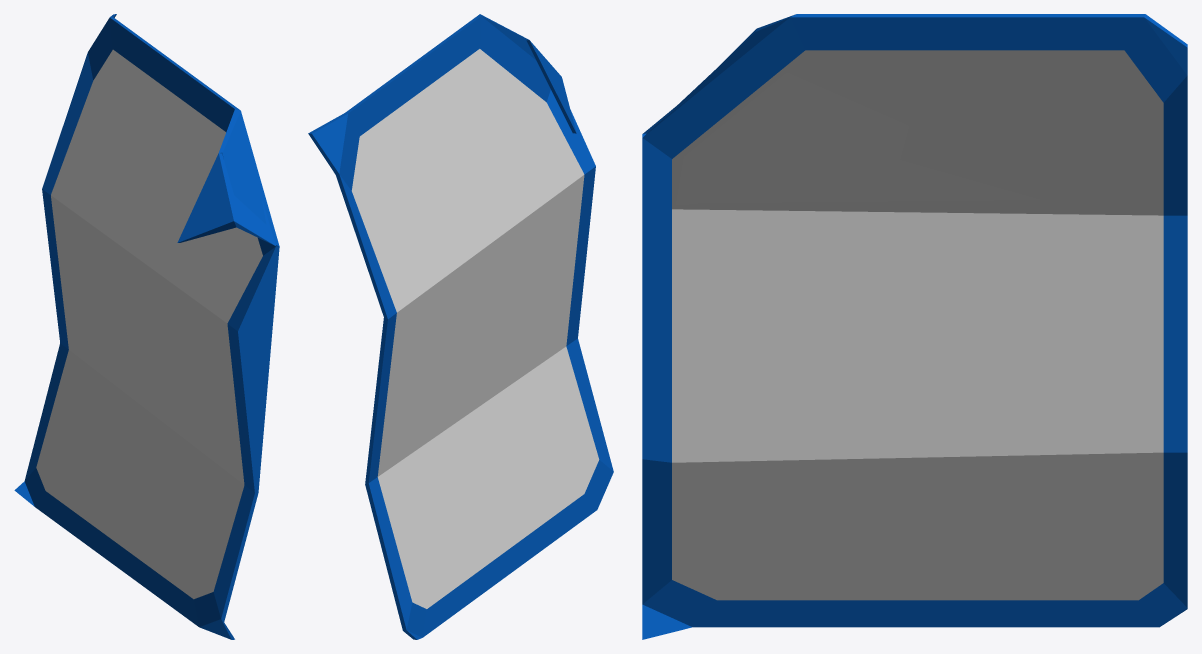
Rendered from Paper_Trash.fbx.
3 views of the same model, side by side, from view 1: azimuth 30°, elevation 25°; view 2: azimuth 150°, elevation 25°; view 3: azimuth 270°, elevation 25° (orthographic). The views are drawn at different scales.
Parts seen in each view (by area): view 1: Paper; view 2: Paper; view 3: Paper.
Boxes of the visible parts, x1,y1,x2,y2 form: Paper: (14, 14, 279, 639); Paper: (308, 14, 613, 639); Paper: (642, 14, 1187, 639).
Bounding box in the file's own units: 64.53 × 286 × 213.
